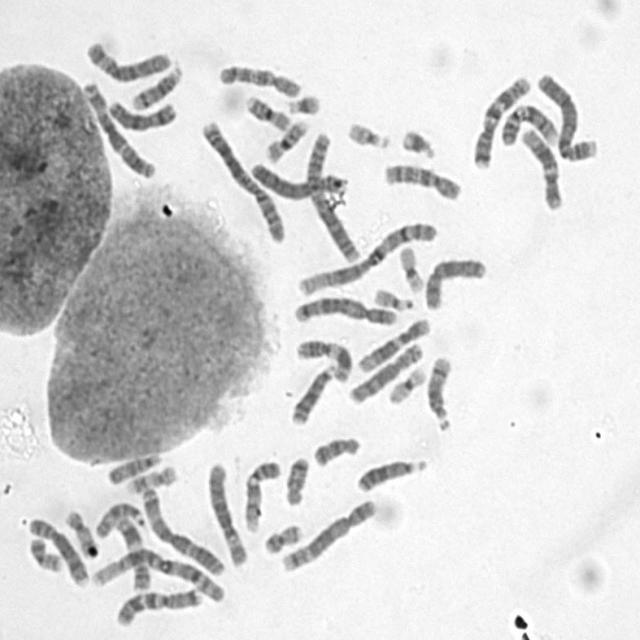A1: (292, 216, 438, 297), (88, 542, 228, 604)
A2: (198, 116, 288, 244), (302, 125, 364, 263)
A3: (137, 482, 227, 577), (79, 76, 158, 180)
B4: (534, 67, 600, 164), (246, 158, 348, 201)
B5: (278, 494, 380, 574), (290, 291, 400, 327)
C10: (380, 158, 464, 202), (214, 59, 303, 100)
C11: (111, 511, 152, 593), (293, 333, 355, 384)
C12: (354, 313, 432, 374), (518, 122, 566, 211)
C6: (203, 458, 250, 568), (81, 36, 174, 84)
C7: (470, 70, 534, 169), (111, 584, 206, 628)
C8: (346, 337, 427, 406), (23, 512, 90, 588)
C9: (241, 454, 284, 534), (496, 99, 562, 147)
D13: (288, 359, 337, 426), (353, 453, 428, 494)
D14: (128, 60, 185, 112), (423, 350, 455, 432)
D15: (93, 496, 147, 540), (103, 448, 163, 486)
E16: (261, 113, 311, 163), (242, 90, 292, 132)
E17: (62, 506, 100, 560), (123, 460, 179, 496)
E18: (310, 432, 363, 468), (281, 451, 311, 507)
F19: (384, 362, 428, 405), (396, 241, 426, 294)
F20: (25, 532, 66, 574), (260, 518, 305, 556)
G21: (397, 123, 438, 160), (285, 90, 322, 116)
G22: (343, 116, 393, 150), (371, 283, 416, 312)
X: (421, 253, 489, 311), (105, 96, 179, 133)
